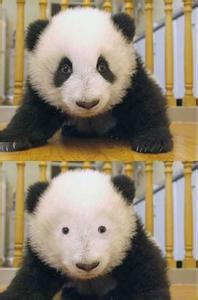panda: (1, 4, 178, 155), (1, 169, 173, 300)
